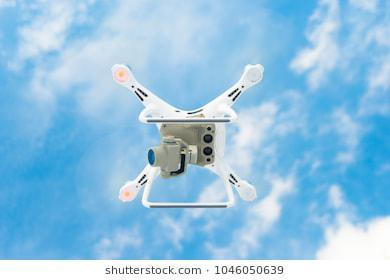drone: (96, 43, 290, 226)
